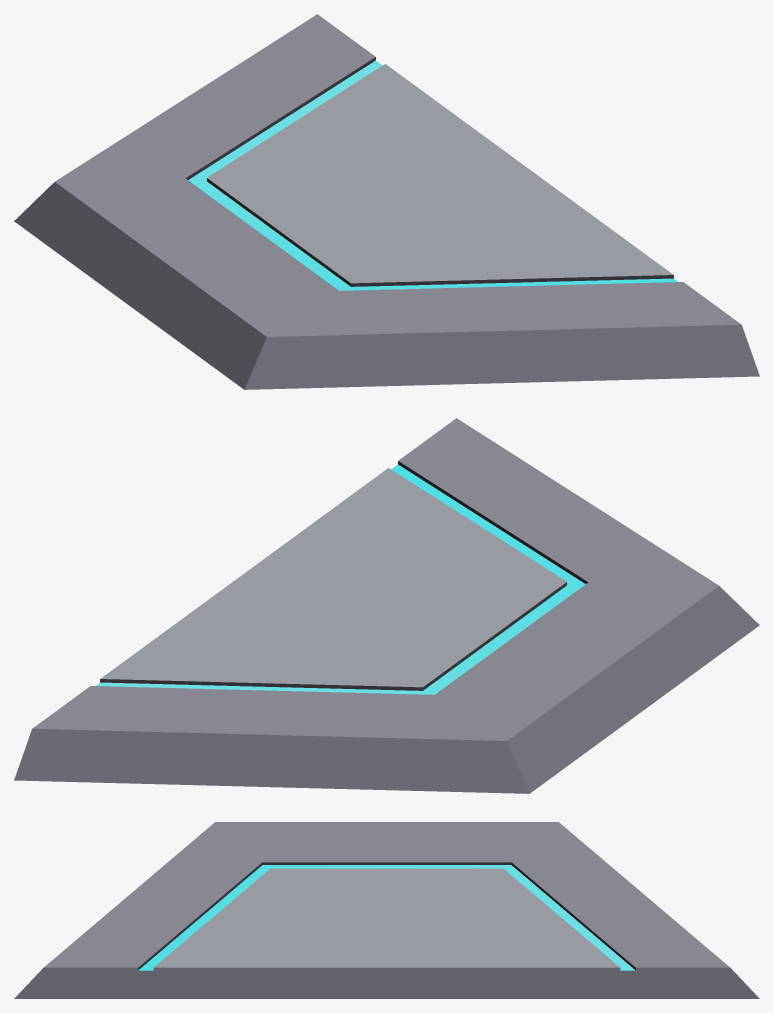
The model's file is FloorHexa_02.glb.
The picture shows the model from 3 angles, top to bottom: view 1: azimuth 30°, elevation 25°; view 2: azimuth 150°, elevation 25°; view 3: azimuth 270°, elevation 25°; orthographic projection. The views are drawn at different scales.
Visible parts, largest first — view 1: FloorHexa_02; view 2: FloorHexa_02; view 3: FloorHexa_02.
Part boxes in pixels (left/top/right/bottom): FloorHexa_02: left=14, top=14, right=759, bottom=389; FloorHexa_02: left=14, top=418, right=759, bottom=793; FloorHexa_02: left=14, top=822, right=759, bottom=998.
Size of what is drawn, in the model's own units: 0.9999 by 0.0918 by 1.99.
1 material, 1 textured.
